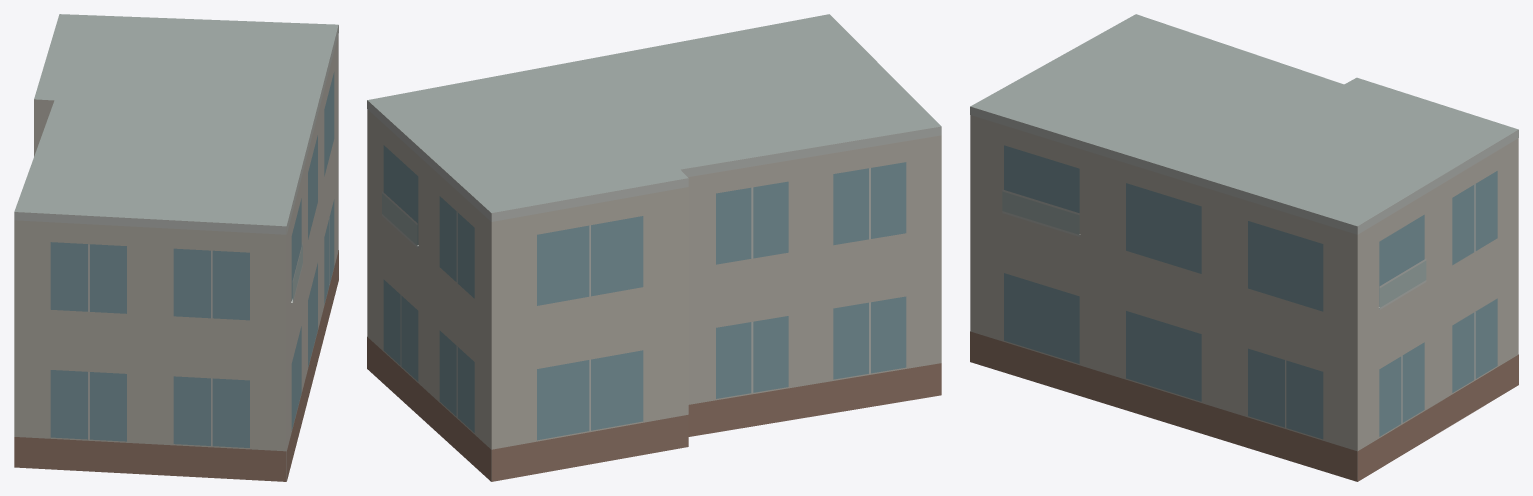
Rendered from survey-upis-32989437.glb.
3 views of the same model, side by side, from view 1: azimuth 30°, elevation 25°; view 2: azimuth 150°, elevation 25°; view 3: azimuth 270°, elevation 25° (orthographic). The views are drawn at different scales.
Parts seen in each view (by area): view 1: survey-upis-32989437.tmp; view 2: survey-upis-32989437.tmp; view 3: survey-upis-32989437.tmp.
Boxes of the visible parts, <box> form: survey-upis-32989437.tmp: <box>14,14,338,481</box>; survey-upis-32989437.tmp: <box>367,14,941,481</box>; survey-upis-32989437.tmp: <box>970,14,1518,481</box>.
Size of the model in its own units: 13.2 by 7.4 by 14.41.
